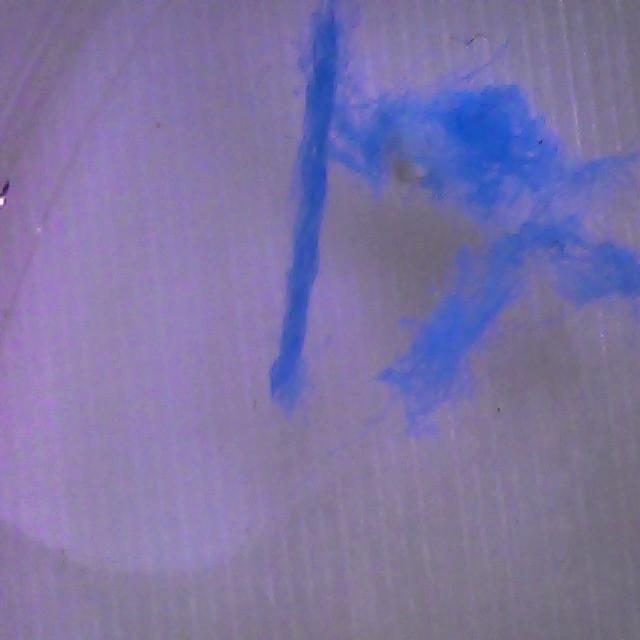fibers: (267, 0, 349, 411), (0, 0, 1, 1)
